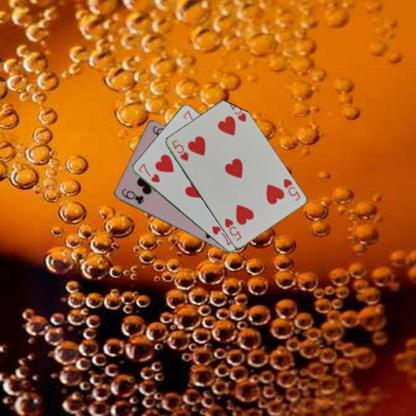5h: (280, 176, 302, 202), (168, 137, 190, 162)
6c: (118, 186, 145, 207)
7h: (135, 160, 161, 184)
